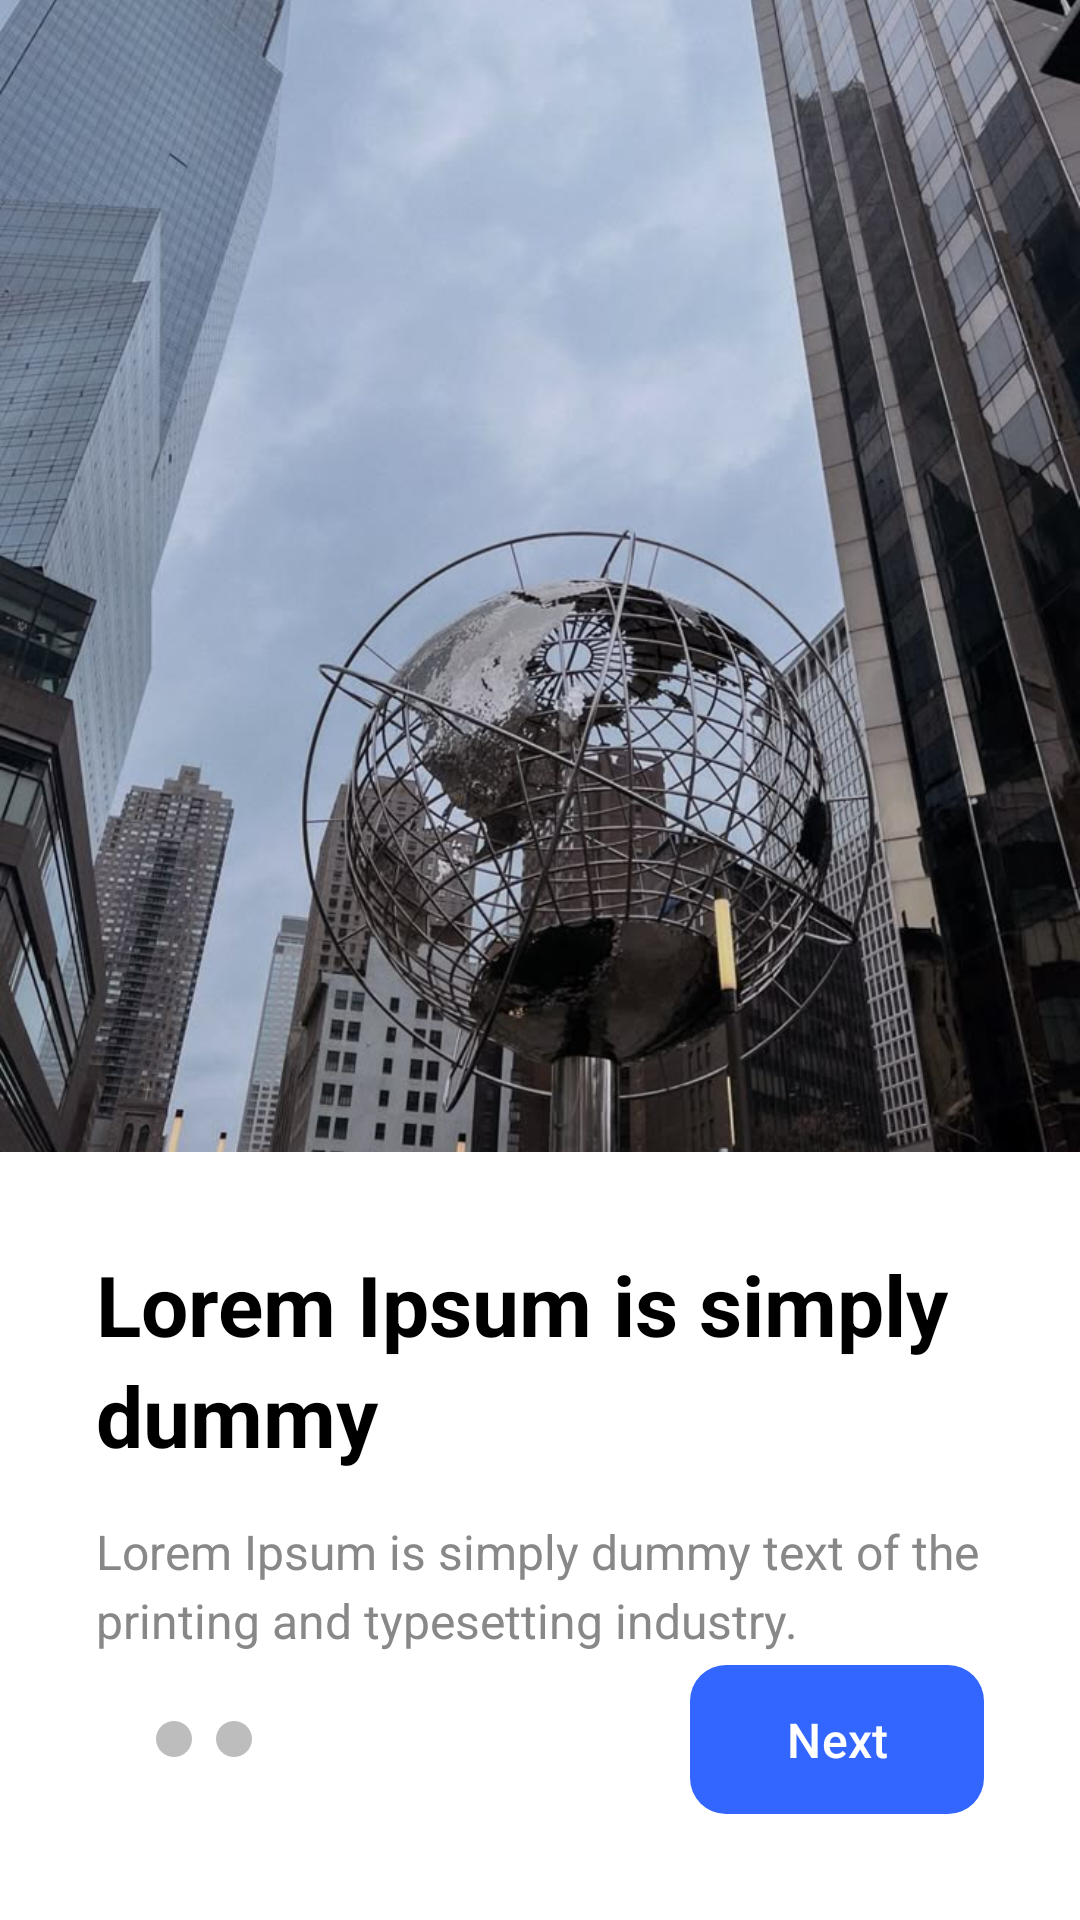

Icon click points for this 1080px×1920px phone screenshot, format (x,y):
indicator: (174,1739), (234,1739)
